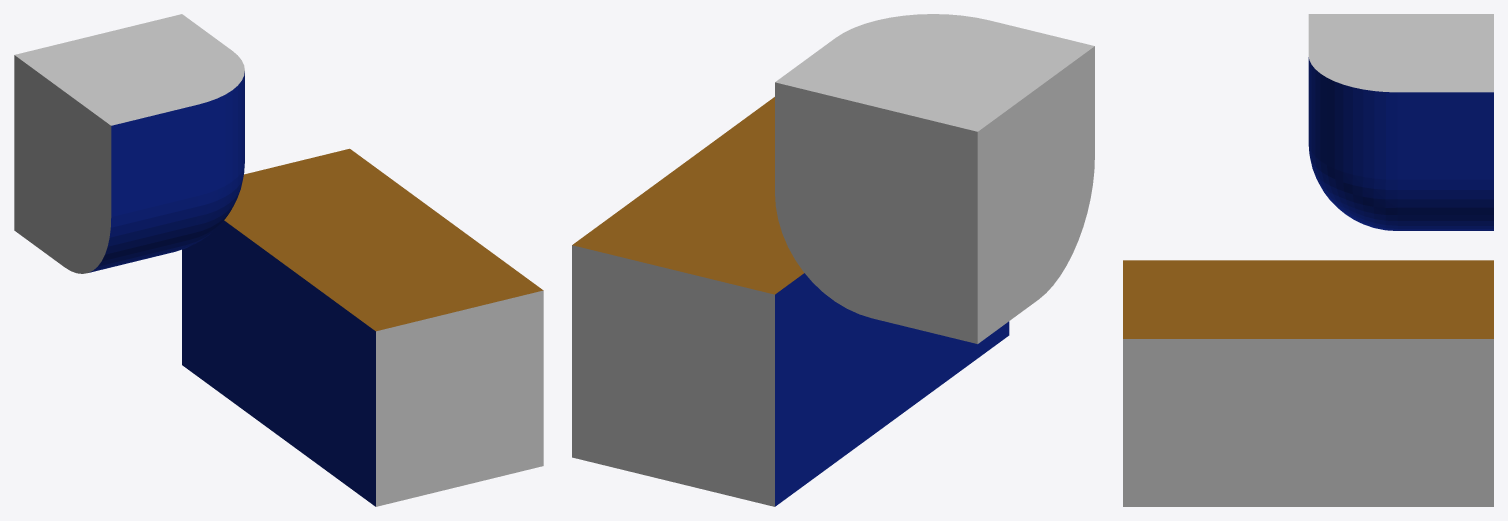
File: case_22.fbx
3 views of the same model, side by side, from view 1: azimuth 30°, elevation 25°; view 2: azimuth 150°, elevation 25°; view 3: azimuth 270°, elevation 25° (orthographic). The views are drawn at different scales.
Visible parts, largest first — view 1: case_22; view 2: case_22; view 3: case_22.
Part boxes in pixels (bbox=[...]): case_22: bbox=[14, 14, 543, 506]; case_22: bbox=[572, 14, 1094, 506]; case_22: bbox=[1123, 14, 1493, 506].
Bounding box in the file's own units: 1 × 1 × 1.
